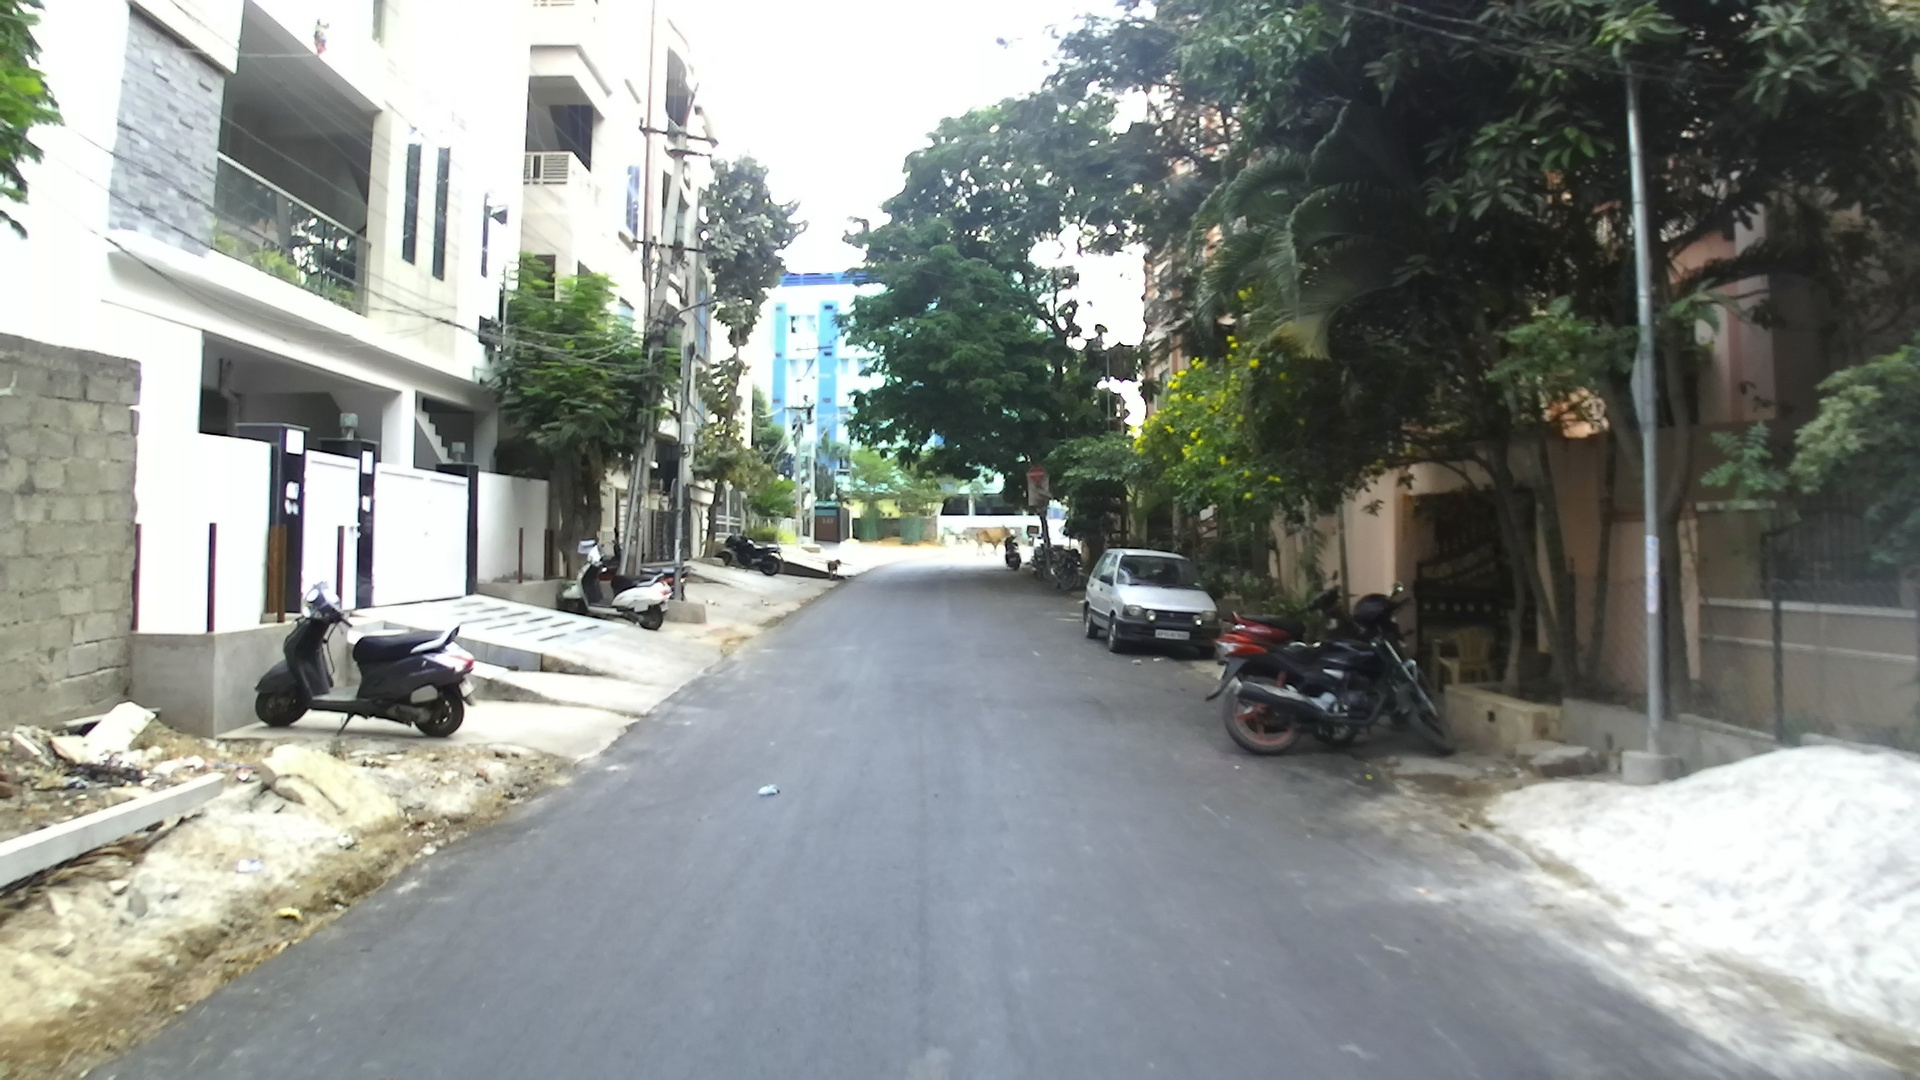vehicle: (1215, 592, 1444, 754), (251, 584, 473, 742), (1080, 549, 1218, 659)
